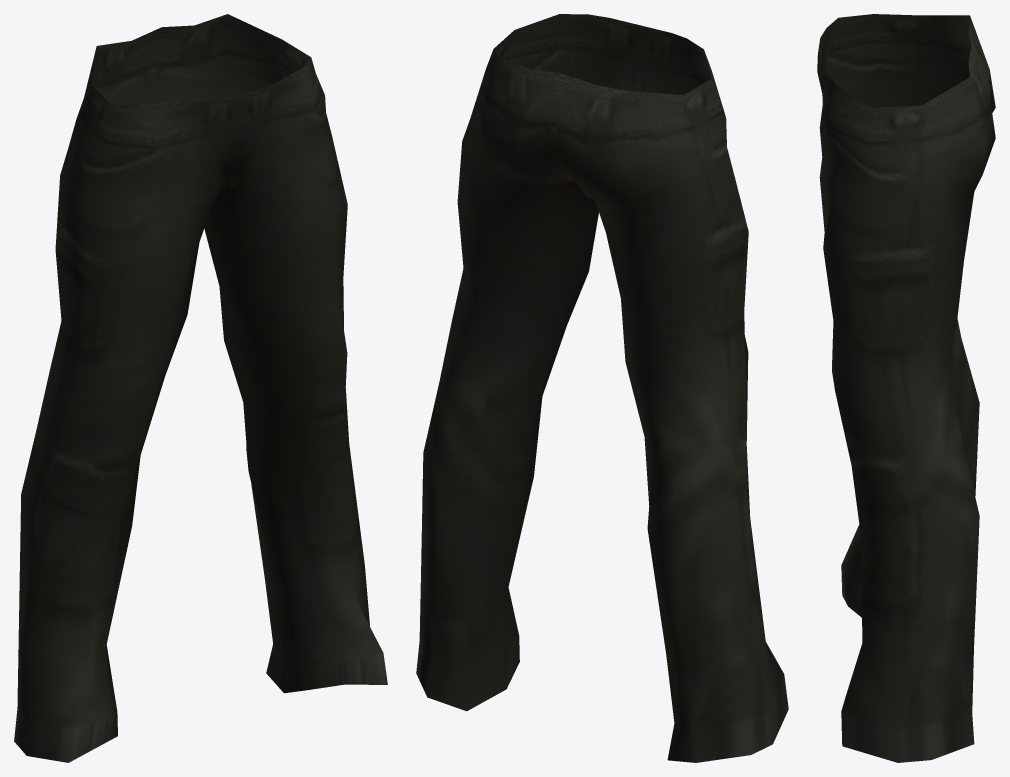
Rendered from cortu-cargo-pants.glb.
The picture shows the model from 3 angles, left to right: view 1: azimuth 30°, elevation 25°; view 2: azimuth 150°, elevation 25°; view 3: azimuth 270°, elevation 25°; orthographic projection. The views are drawn at different scales.
Parts seen in each view (by area): view 1: Human.cortu_cargo_pants; view 2: Human.cortu_cargo_pants; view 3: Human.cortu_cargo_pants.
Part boxes in pixels (box(x1,y1,x2,y2)): Human.cortu_cargo_pants: box(14, 14, 387, 762); Human.cortu_cargo_pants: box(416, 14, 788, 762); Human.cortu_cargo_pants: box(817, 14, 995, 762).
Bounding box in the file's own units: 0.5717 × 1.06 × 0.2647.
Materials: 1 (1 with a texture image).
